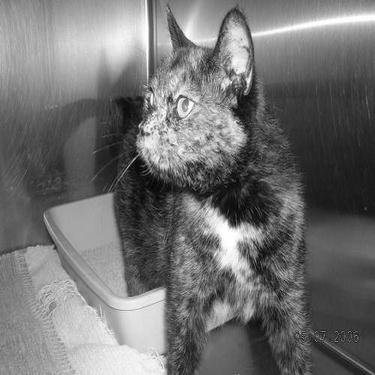cat: (87, 19, 349, 371)
